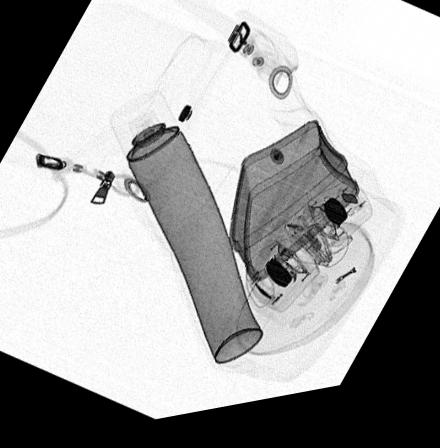Sprayer: (109, 95, 262, 370)
